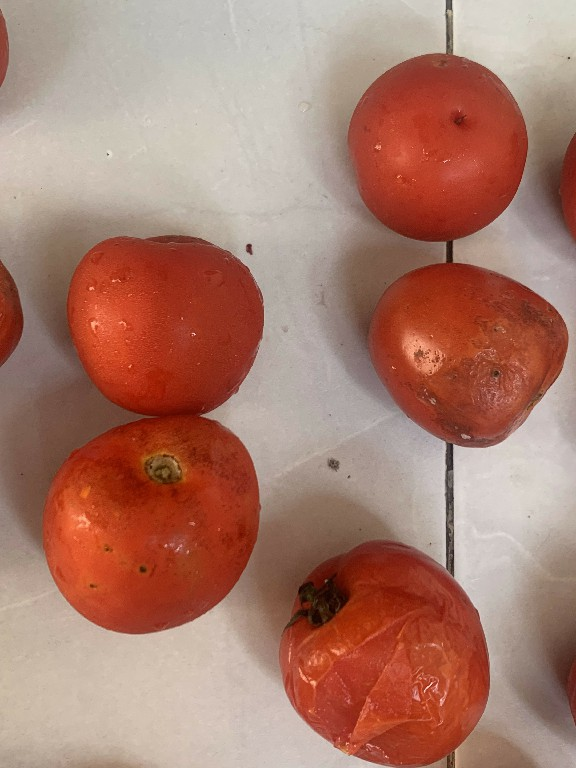NG: (274, 517, 507, 763), (22, 413, 267, 641), (364, 254, 571, 456)
OK: (332, 41, 547, 246), (59, 219, 280, 412)
